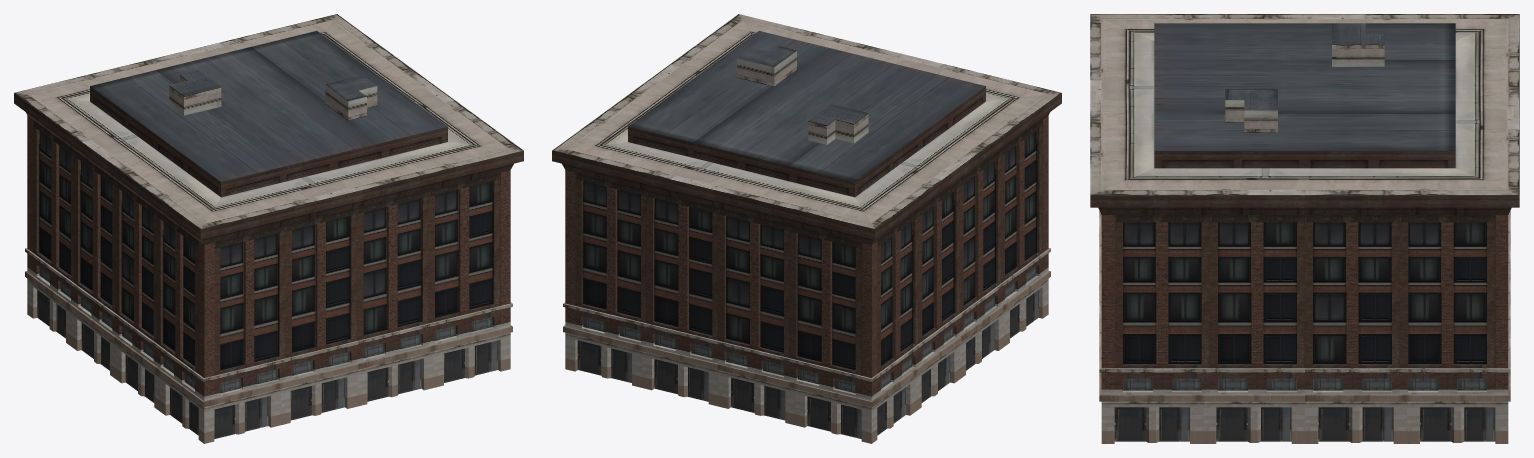
File: resid3.glb
3 views of the same model, side by side, from view 1: azimuth 30°, elevation 25°; view 2: azimuth 150°, elevation 25°; view 3: azimuth 270°, elevation 25° (orthographic). The views are drawn at different scales.
Parts seen in each view (by area): view 1: resid3; view 2: resid3; view 3: resid3.
Part boxes in pixels (box(x1,y1,x2,y2)): resid3: box(14, 14, 523, 443); resid3: box(552, 14, 1061, 443); resid3: box(1090, 14, 1519, 443).
Bounding box in the file's own units: 36.95 × 27.88 × 36.95.
2 materials, 2 textured.
